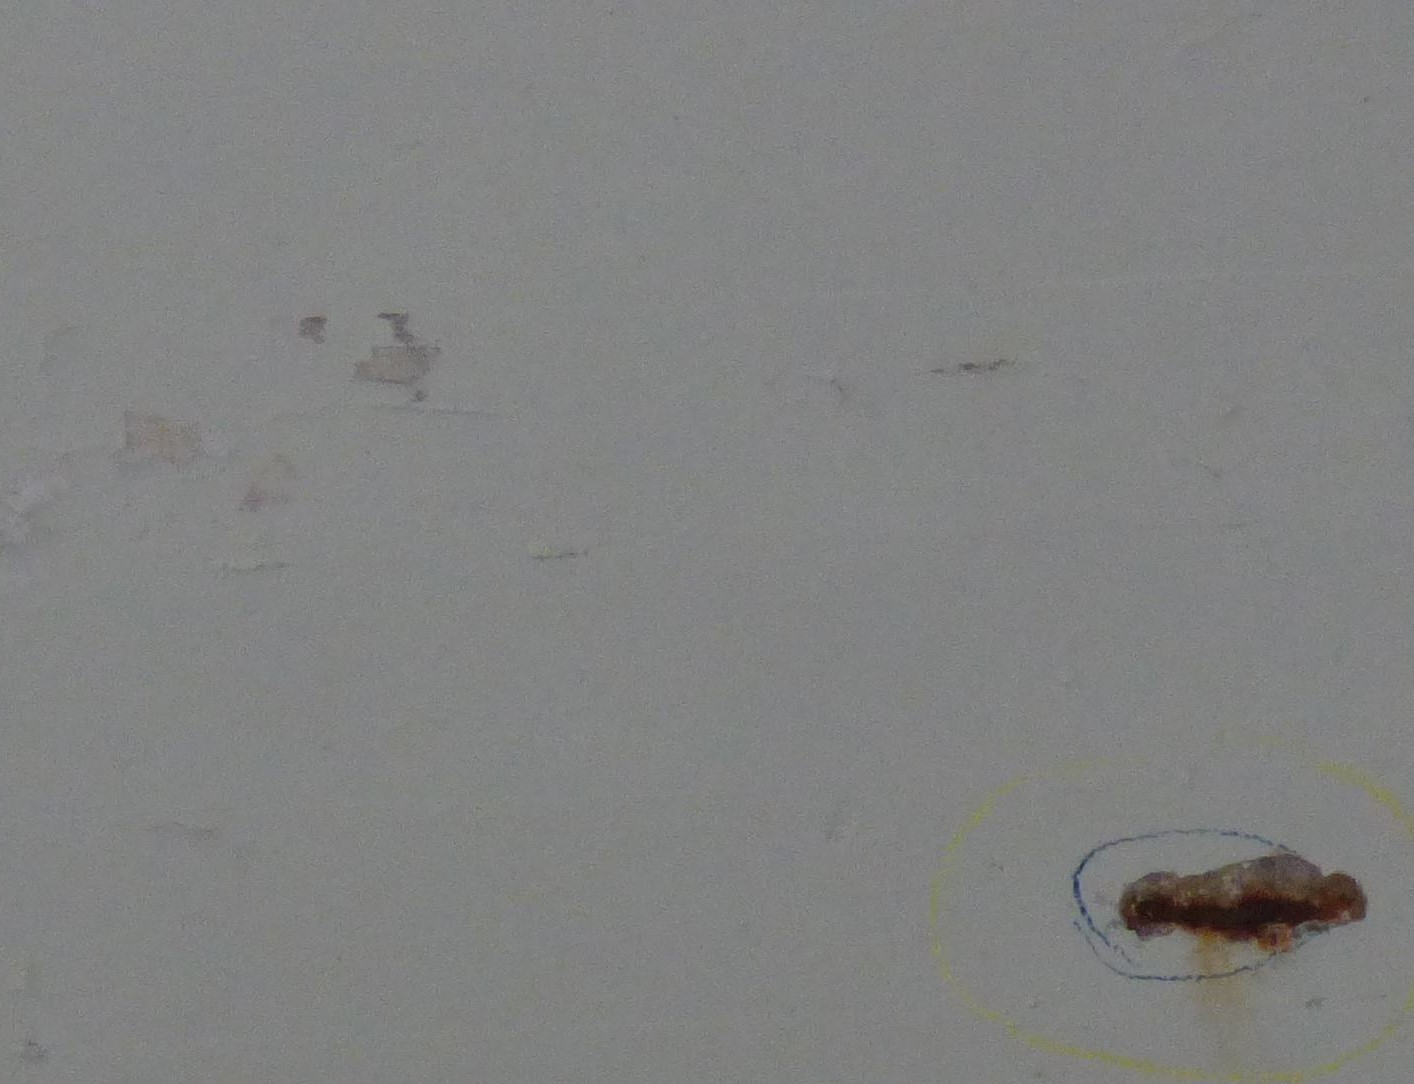Exposed reinforcement: (1136, 900, 1320, 927)
Spalling: (1117, 852, 1368, 953)
